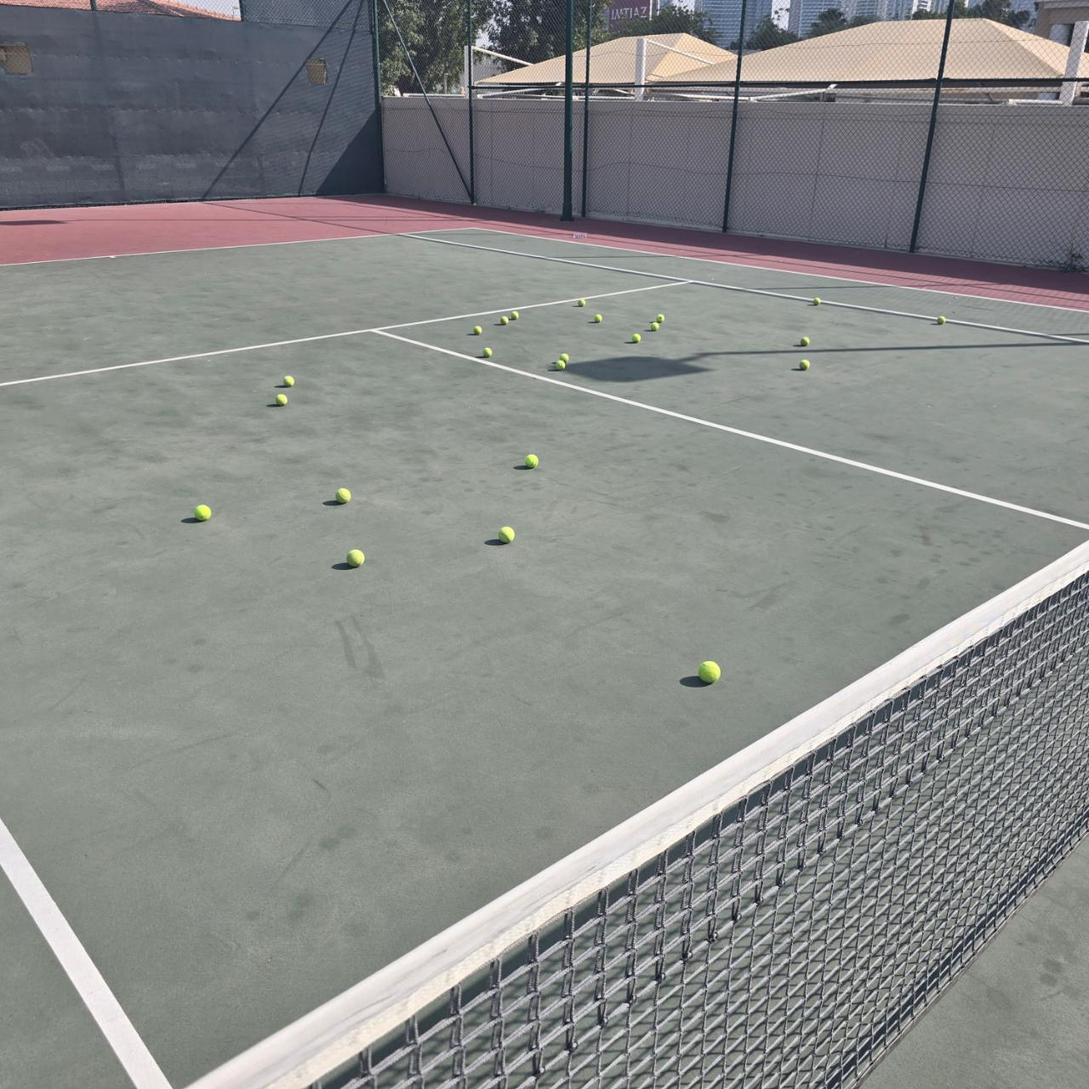tennis-ball: (696, 658, 721, 684), (345, 547, 364, 566), (193, 502, 211, 520), (498, 524, 515, 543), (334, 486, 351, 503), (524, 452, 539, 468), (275, 391, 288, 405), (282, 373, 294, 387), (799, 359, 810, 371), (482, 347, 493, 358), (559, 352, 570, 363), (510, 309, 520, 321), (800, 336, 811, 346), (556, 360, 566, 370), (632, 334, 641, 344), (474, 325, 482, 336), (500, 316, 509, 325), (656, 314, 665, 323), (937, 316, 946, 325), (651, 322, 659, 332), (594, 314, 602, 323), (578, 299, 586, 307), (813, 297, 821, 305)
